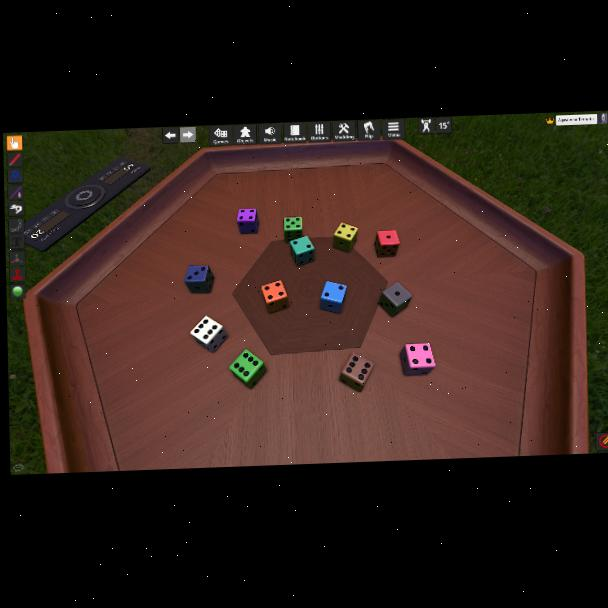d6: (228, 350, 265, 389), (338, 351, 373, 392), (191, 316, 228, 353), (378, 282, 412, 319), (399, 342, 434, 376), (185, 263, 216, 294), (320, 280, 348, 314), (332, 223, 357, 254), (288, 236, 313, 267), (374, 229, 399, 258), (236, 208, 258, 234), (284, 217, 303, 244)
